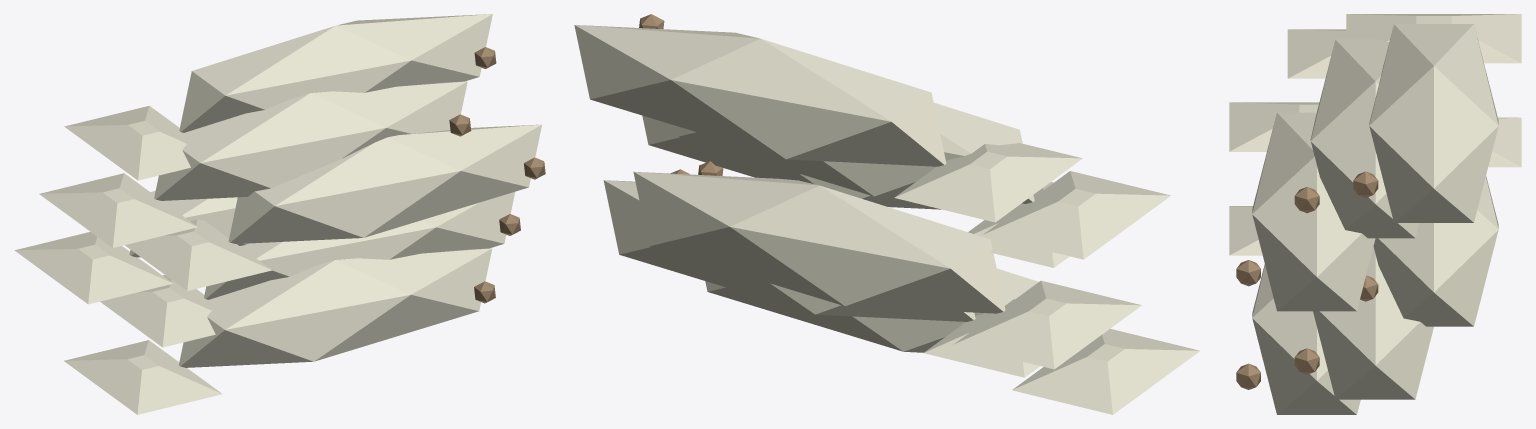
File: item_042_fish_l.glb
3 views of the same model, side by side, from view 1: azimuth 30°, elevation 25°; view 2: azimuth 150°, elevation 25°; view 3: azimuth 270°, elevation 25° (orthographic). The views are drawn at different scales.
Visible parts, largest first — view 1: item_042_fish_l; view 2: item_042_fish_l; view 3: item_042_fish_l.
Boxes of the visible parts, bbox=[...] form: item_042_fish_l: bbox=[14, 14, 545, 414]; item_042_fish_l: bbox=[574, 14, 1200, 414]; item_042_fish_l: bbox=[1229, 14, 1521, 414].
Bounding box in the file's own units: 0.6209 × 0.375 × 0.3.
